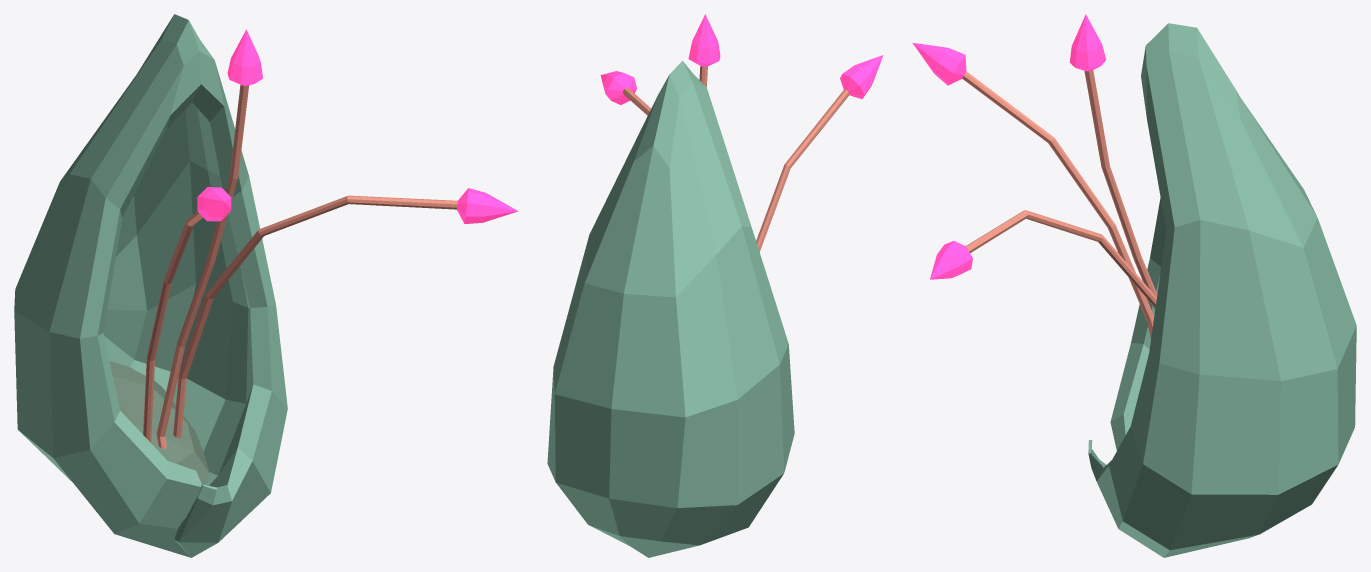
The model's file is Plant_14_Var_01.fbx.
The picture shows the model from 3 angles, left to right: view 1: azimuth 30°, elevation 25°; view 2: azimuth 150°, elevation 25°; view 3: azimuth 270°, elevation 25°; orthographic projection. The views are drawn at different scales.
Visible parts, largest first — view 1: Plant_14_Var_01; view 2: Plant_14_Var_01; view 3: Plant_14_Var_01.
Part boxes in pixels (left/top/right/bottom): Plant_14_Var_01: left=14, top=14, right=518, bottom=557; Plant_14_Var_01: left=547, top=14, right=883, bottom=557; Plant_14_Var_01: left=912, top=14, right=1356, bottom=557.
Bounding box in the file's own units: 0.6155 × 0.8428 × 0.5321.
